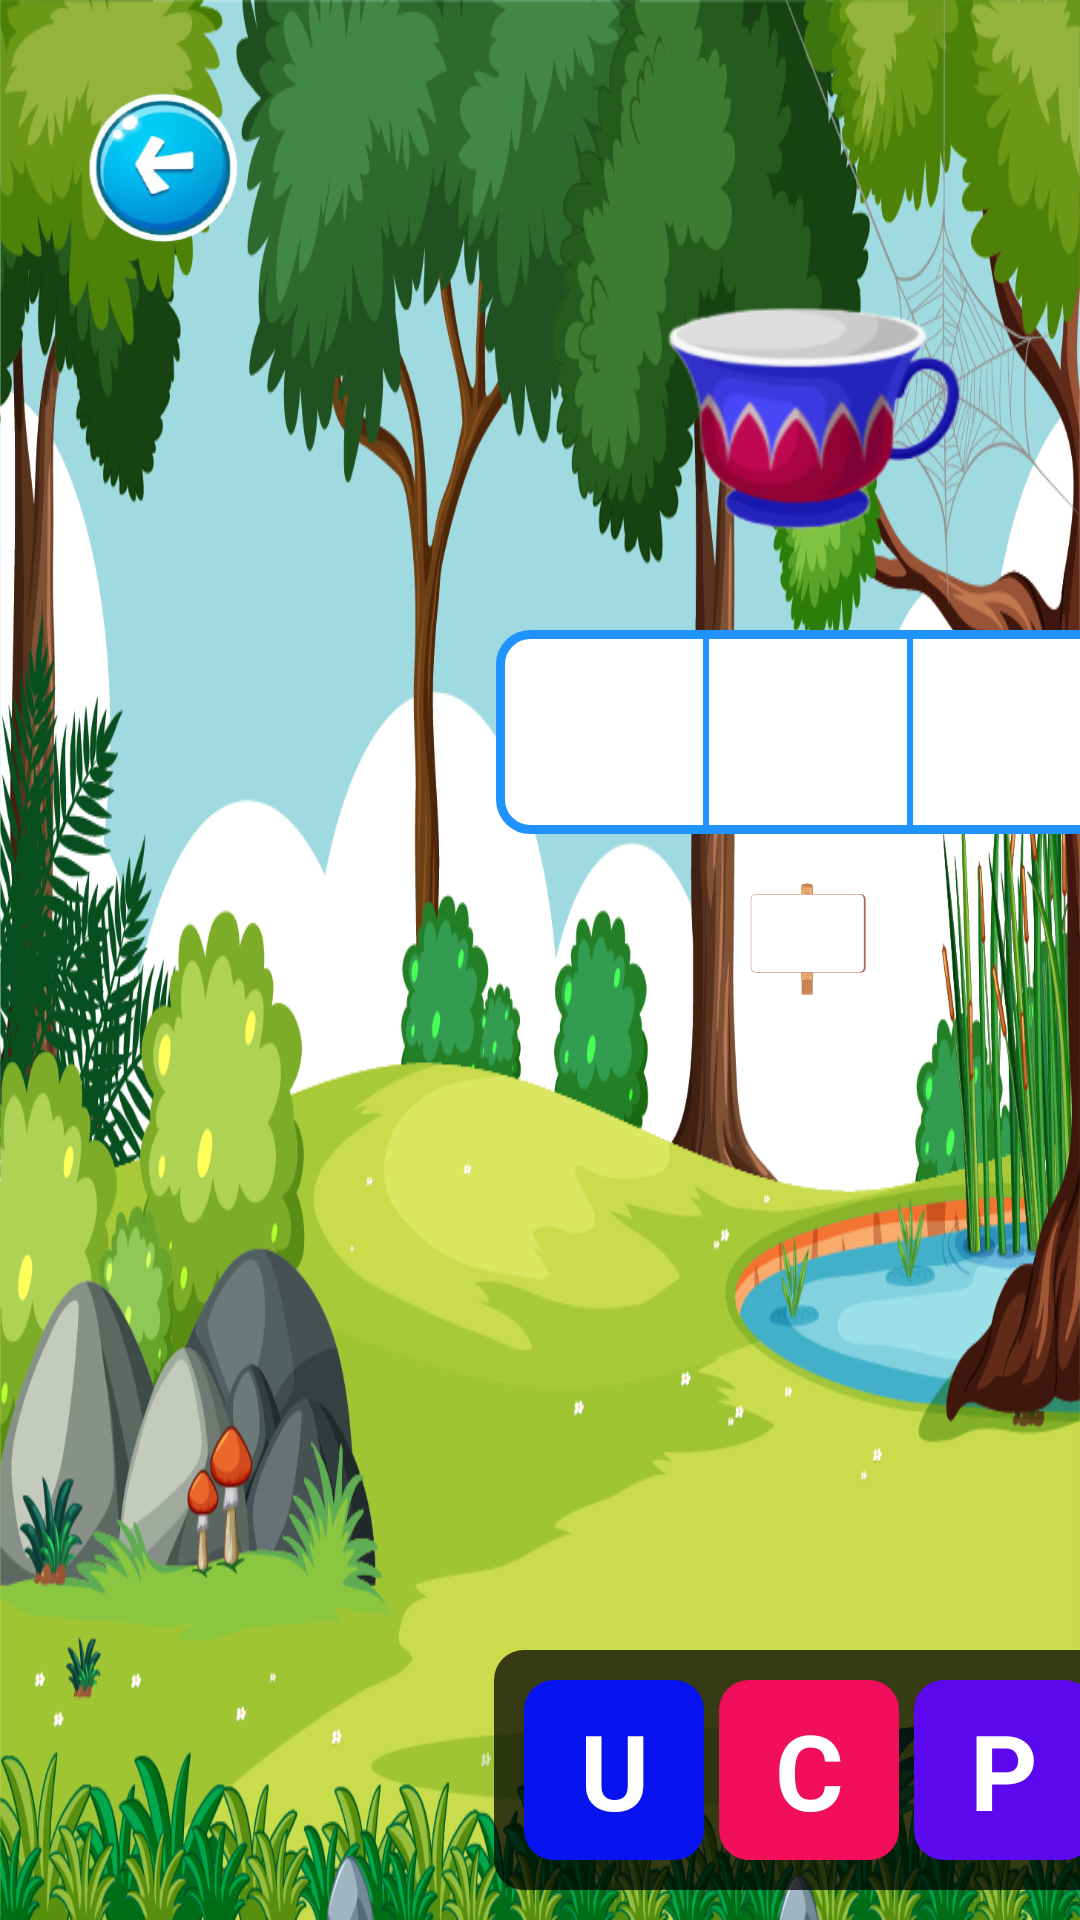

Icon click points for this 1080 x 1920 phone screenshot, format (x=x, y=y):
back: (x=165, y=165)
